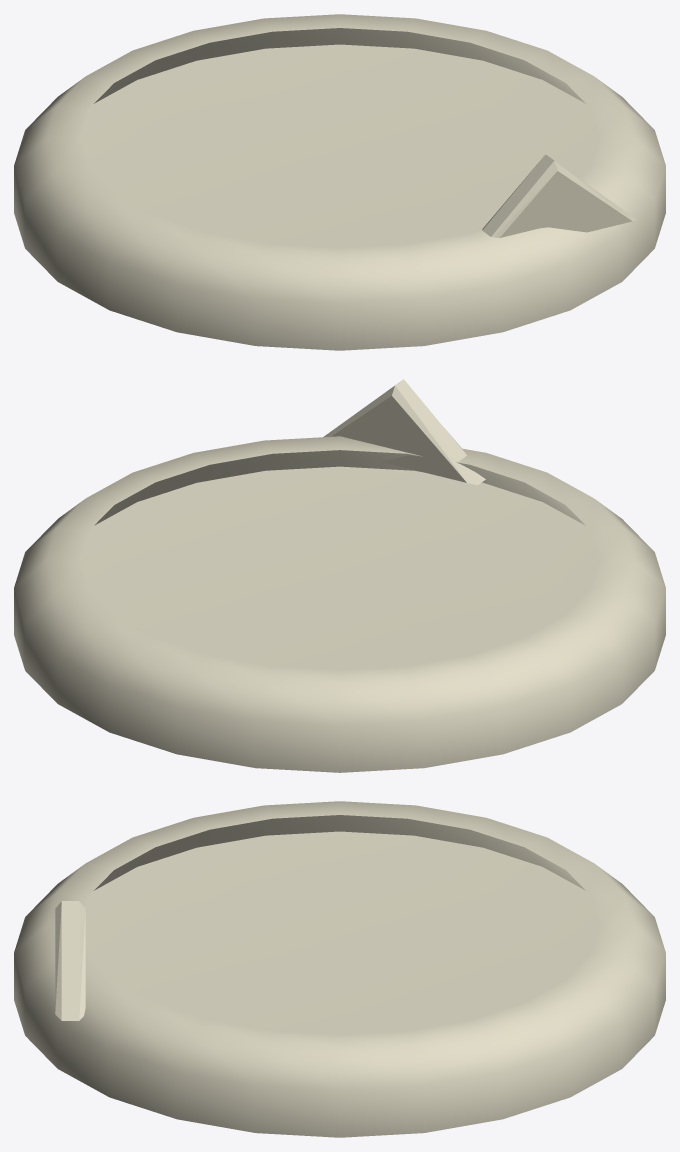
Rendered from prehistoric-expedition-sites-egg-shell-fragment-1d3c4db2__26116.glb.
3 views of the same model, one above another, from view 1: azimuth 30°, elevation 25°; view 2: azimuth 150°, elevation 25°; view 3: azimuth 270°, elevation 25° (orthographic).
Parts seen in each view (by area): view 1: egg-shell-fragment; view 2: egg-shell-fragment; view 3: egg-shell-fragment.
Boxes of the visible parts, bbox=[...] form: egg-shell-fragment: bbox=[14, 14, 665, 350]; egg-shell-fragment: bbox=[14, 379, 665, 772]; egg-shell-fragment: bbox=[14, 801, 665, 1137].
Bounding box in the file's own units: 0.3 × 0.071 × 0.3.
